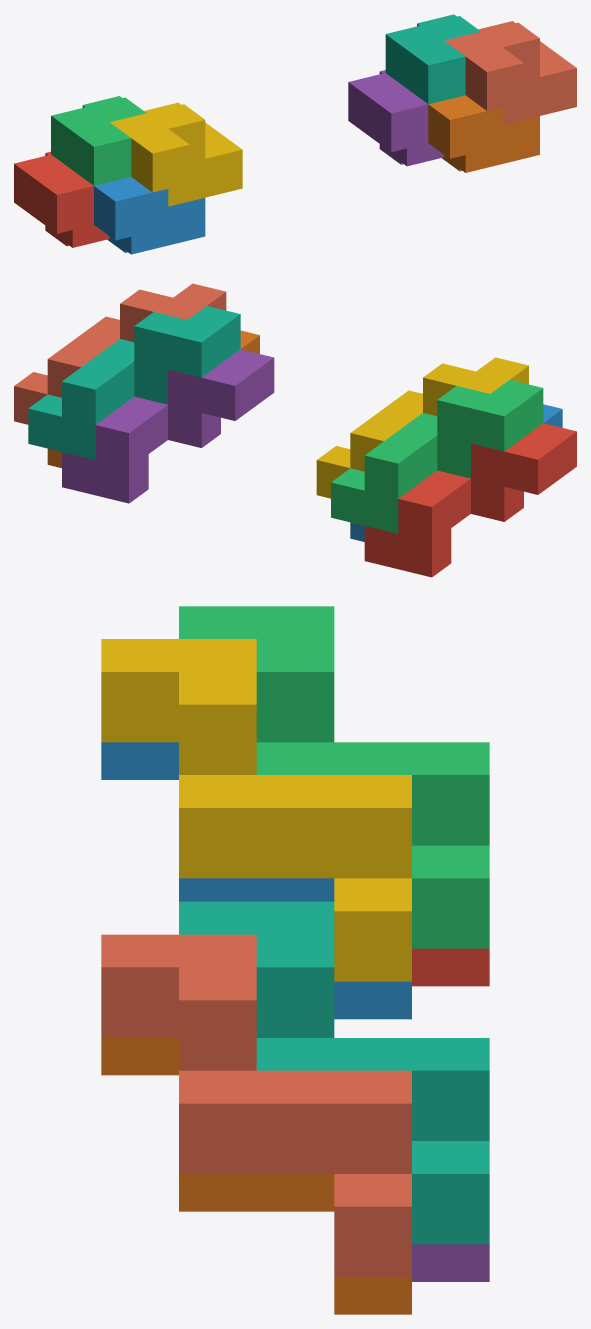
File: tiling.obj
3 views of the same model, one above another, from view 1: azimuth 30°, elevation 25°; view 2: azimuth 150°, elevation 25°; view 3: azimuth 270°, elevation 25° (orthographic). The views are drawn at different scales.
Visible parts, largest first — view 1: copy_1_domain_8, copy_1_domain_4, copy_1_domain_2, copy_1_domain_6, copy_1_domain_3, copy_1_domain_7, copy_1_domain_5, copy_1_domain_1; view 2: copy_1_domain_3, copy_1_domain_7, copy_1_domain_5, copy_1_domain_1, copy_1_domain_8, copy_1_domain_4, copy_1_domain_2, copy_1_domain_6; view 3: copy_1_domain_8, copy_1_domain_4, copy_1_domain_7, copy_1_domain_3, copy_1_domain_6, copy_1_domain_2, copy_1_domain_1, copy_1_domain_5.
Part boxes in pixels (bbox=[...]): copy_1_domain_8: bbox=[444, 21, 576, 124]; copy_1_domain_4: bbox=[110, 102, 242, 206]; copy_1_domain_2: bbox=[94, 177, 205, 254]; copy_1_domain_6: bbox=[428, 95, 539, 172]; copy_1_domain_3: bbox=[51, 96, 146, 185]; copy_1_domain_7: bbox=[385, 14, 480, 104]; copy_1_domain_5: bbox=[348, 70, 443, 166]; copy_1_domain_1: bbox=[14, 151, 109, 247]; copy_1_domain_3: bbox=[331, 380, 543, 533]; copy_1_domain_7: bbox=[28, 306, 240, 459]; copy_1_domain_5: bbox=[62, 349, 274, 503]; copy_1_domain_1: bbox=[364, 423, 576, 577]; copy_1_domain_8: bbox=[14, 283, 226, 424]; copy_1_domain_4: bbox=[316, 357, 528, 498]; copy_1_domain_2: bbox=[350, 404, 562, 541]; copy_1_domain_6: bbox=[47, 330, 259, 467]; copy_1_domain_8: bbox=[101, 934, 411, 1277]; copy_1_domain_4: bbox=[101, 639, 411, 981]; copy_1_domain_7: bbox=[179, 901, 489, 1244]; copy_1_domain_3: bbox=[179, 606, 489, 948]; copy_1_domain_6: bbox=[101, 1038, 411, 1314]; copy_1_domain_2: bbox=[101, 742, 411, 1019]; copy_1_domain_1: bbox=[412, 948, 489, 986]; copy_1_domain_5: bbox=[412, 1244, 489, 1281].
Bounding box in the file's own units: 15 × 4 × 5.
